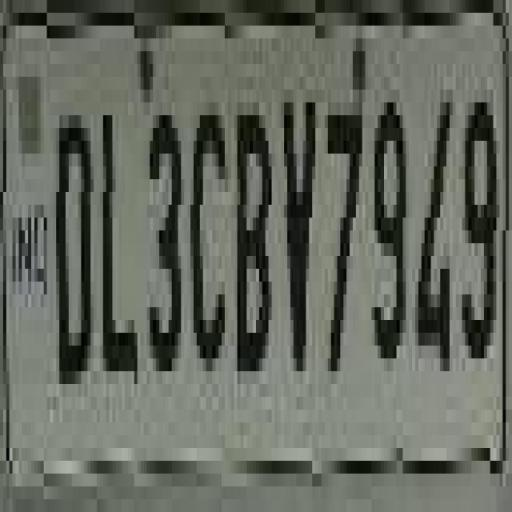number plate: (0, 0, 490, 499)
